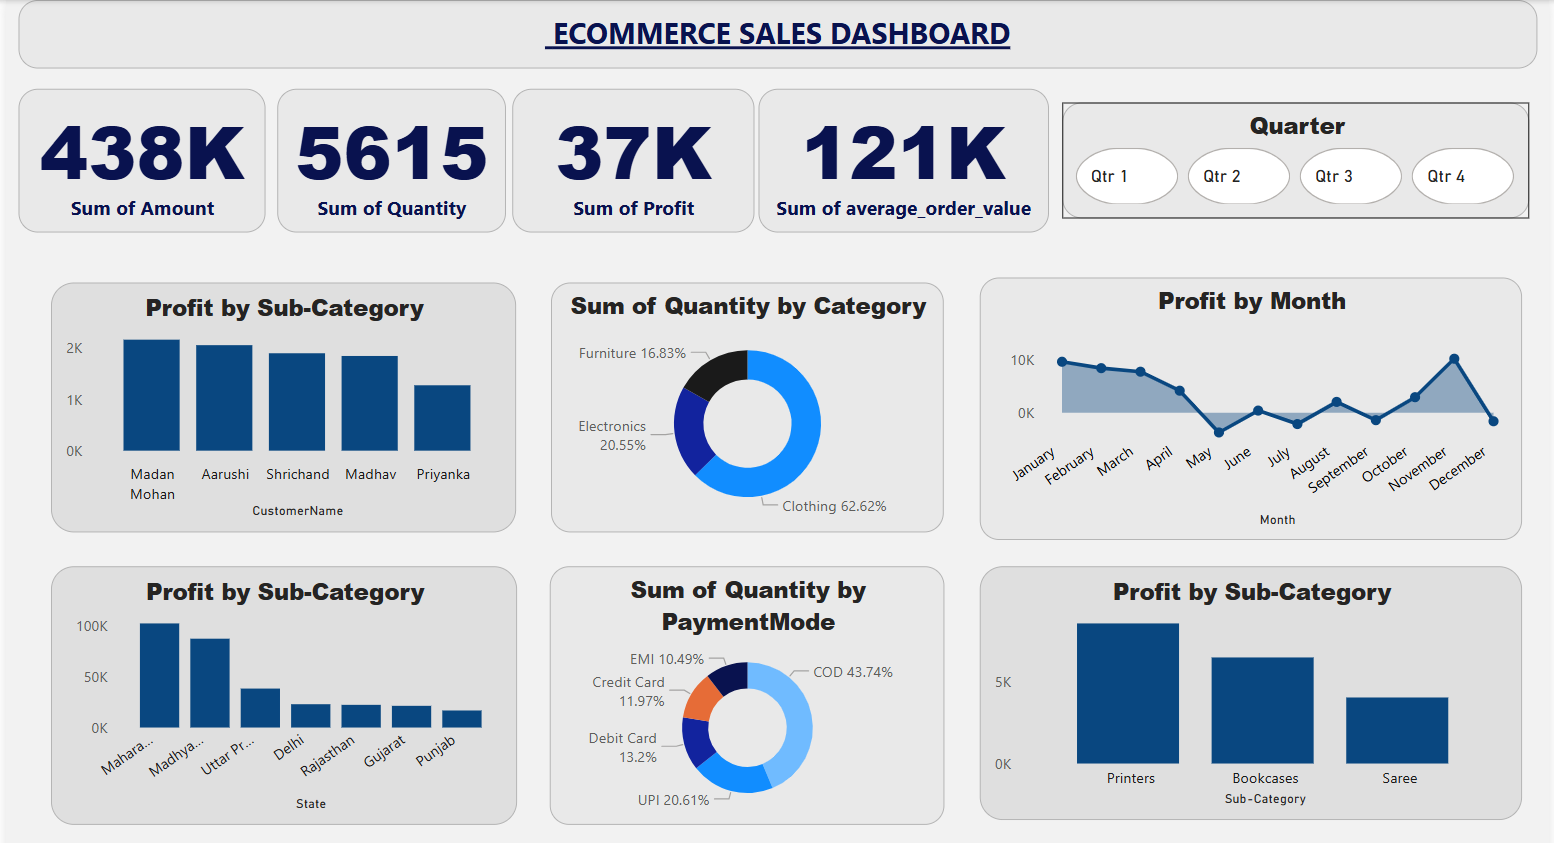

The dashboard page shown, as its layout file describes it:
{"tool":"powerbi","page":{"name":"Page 1","canvas":[1280,720],"ordinal":0},"visuals":[{"type":"textbox","box":[10.2,0,1270.2,57.1],"z":0},{"type":"areaChart","title":"Profit by Month","fields":{"Category":["Orders.Order Date.Variation.Date Hierarchy.Month"],"Y":["Details.Profit"]},"box":[799.2,230.4,470.9,162.7],"z":1000},{"type":"columnChart","title":"Profit by Sub-Category","fields":{"Category":["Details.Sub-Category"],"Y":["Details.Profit"]},"box":[833.8,469.4,446.4,210.2],"z":2000},{"type":"donutChart","fields":{"Y":["Details.Quantity"],"Category":["Details.PaymentMode"]},"box":[460.8,479.5,326.9,200.2],"z":3000},{"type":"donutChart","fields":{"Category":["Details.Category"],"Y":["Details.Quantity"]},"box":[442.1,230.4,315.4,180],"z":4000},{"type":"card","fields":{"Values":["Details.Amount"]},"box":[10.1,73.4,205.9,110.9],"z":5000},{"type":"card","fields":{"Values":["Details.Quantity"]},"box":[227.5,77.8,187.2,108],"z":6000},{"type":"card","fields":{"Values":["Details.Profit"]},"box":[419,79.2,205.9,106.6],"z":7000},{"type":"card","fields":{"Values":["Details.average_order_value"]},"box":[639.4,79.2,194.4,106.6],"z":8000},{"type":"columnChart","title":"Profit by Sub-Category","fields":{"Y":["Details.Profit"],"Category":["Orders.CustomerName"]},"box":[47.5,220.3,311,201.6],"z":9000},{"type":"columnChart","title":"Profit by Sub-Category","fields":{"Y":["Details.Amount"],"Category":["Orders.State"]},"box":[47.5,476.6,385.9,203],"z":10000},{"type":"advancedSlicerVisual","fields":{"Values":["Orders.Order Date.Variation.Date Hierarchy.Quarter"]},"box":[862.6,73.4,387.4,96.5],"z":11000}]}

Visuals, with their boxes on the page's 1280x720 design canvas (x1, y1, x2, y2). These are canvas units, not pixel positions in the 1554x843 screenshot, which may show the page scaled, cropped or inside an application window:
textbox: crop(10, 0, 1280, 57)
"Profit by Month" areaChart: crop(799, 230, 1270, 393)
"Profit by Sub-Category" columnChart: crop(834, 469, 1280, 680)
donutChart - Details.Quantity x Details.PaymentMode: crop(461, 480, 788, 680)
donutChart - Details.Category x Details.Quantity: crop(442, 230, 758, 410)
card - Details.Amount: crop(10, 73, 216, 184)
card - Details.Quantity: crop(228, 78, 415, 186)
card - Details.Profit: crop(419, 79, 625, 186)
card - Details.average_order_value: crop(639, 79, 834, 186)
"Profit by Sub-Category" columnChart: crop(48, 220, 358, 422)
"Profit by Sub-Category" columnChart: crop(48, 477, 433, 680)
advancedSlicerVisual - Orders.Order Date.Variation.Date Hierarchy.Quarter: crop(863, 73, 1250, 170)
